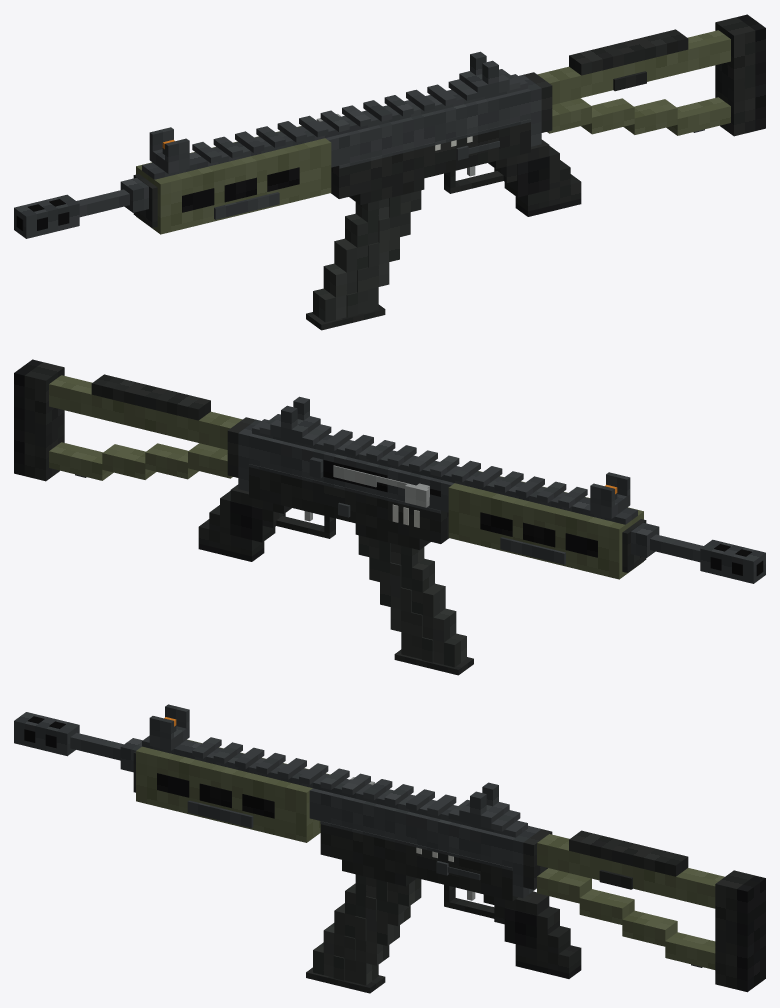
Rendered from BeregA24.glb.
3 views of the same model, one above another, from view 1: azimuth 30°, elevation 25°; view 2: azimuth 150°, elevation 25°; view 3: azimuth 330°, elevation 25° (orthographic).
Parts seen in each view (by area): view 1: Handguard, Upper receiver, Lower receiver, Stock top frame, Butt plate, Top rail spine, Cheek riser, Muzzle brake, Stock brace 3, Magazine step 3, Magazine step 4, Magazine step 1 (+26 smaller); view 2: Handguard, Lower receiver, Stock top frame, Upper receiver, Butt plate, Top rail spine, Cheek riser, Muzzle brake, Stock brace 3, Magazine step 3, Magazine step 4, Magazine step 1 (+28 smaller); view 3: Handguard, Upper receiver, Lower receiver, Stock top frame, Shoulder pad, Top rail spine, Cheek riser, Butt plate, Muzzle brake, Stock brace 3, Stock brace 1, Stock brace 2 (+26 smaller).
Part boxes in pixels (x1,y1,x2,y2): Handguard: [136, 126, 331, 234]; Upper receiver: [325, 88, 530, 167]; Lower receiver: [331, 122, 530, 198]; Stock top frame: [537, 30, 730, 104]; Butt plate: [715, 17, 755, 136]; Top rail spine: [142, 74, 527, 179]; Cheek riser: [569, 29, 688, 75]; Muzzle brake: [14, 194, 79, 238]; Stock brace 3: [666, 97, 730, 135]; Magazine step 3: [323, 262, 389, 297]; Magazine step 4: [313, 287, 378, 322]; Magazine step 1: [345, 212, 410, 247]; Handguard: [448, 471, 643, 579]; Lower receiver: [249, 467, 448, 543]; Stock top frame: [49, 375, 242, 449]; Upper receiver: [249, 433, 454, 512]; Butt plate: [24, 362, 64, 481]; Top rail spine: [252, 419, 637, 524]; Cheek riser: [91, 374, 210, 420]; Muzzle brake: [700, 539, 765, 583]; Stock brace 3: [49, 442, 113, 480]; Magazine step 3: [390, 607, 456, 642]; Magazine step 4: [401, 632, 466, 667]; Magazine step 1: [369, 557, 434, 592]; Handguard: [136, 739, 330, 842]; Upper receiver: [309, 788, 530, 867]; Lower receiver: [320, 824, 517, 901]; Stock top frame: [537, 834, 724, 908]; Shoulder pad: [737, 875, 765, 992]; Top rail spine: [142, 735, 527, 837]; Cheek riser: [569, 830, 688, 876]; Butt plate: [715, 870, 754, 989]; Muzzle brake: [14, 712, 79, 756]; Stock brace 3: [665, 932, 715, 969]; Stock brace 1: [579, 889, 634, 924]; Stock brace 2: [622, 910, 677, 946].
Bounding box in the file's own units: 0.9494 × 0.275 × 0.0722.
1 material, 1 textured.
